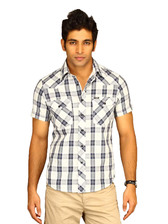clothoes: (22, 54, 136, 190)
